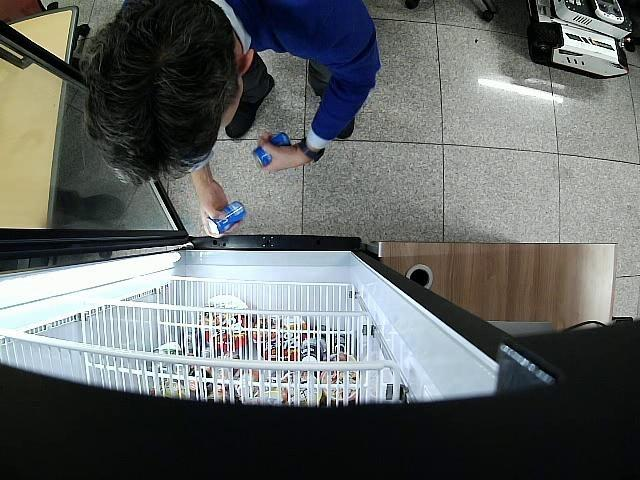15_letsbe: (208, 200, 246, 236), (252, 132, 290, 166)
